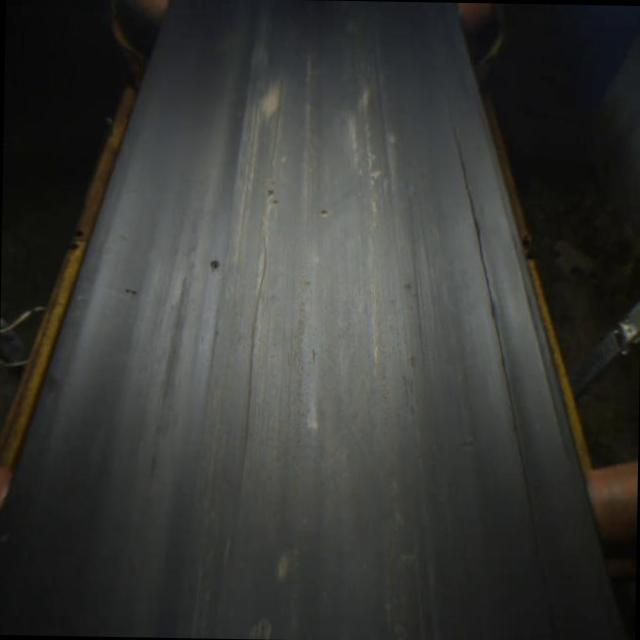Hole: (210, 248, 224, 276)
Puncture: (318, 209, 330, 218), (264, 188, 274, 198), (271, 198, 282, 205)
Tear: (431, 80, 547, 568), (222, 235, 272, 552)
